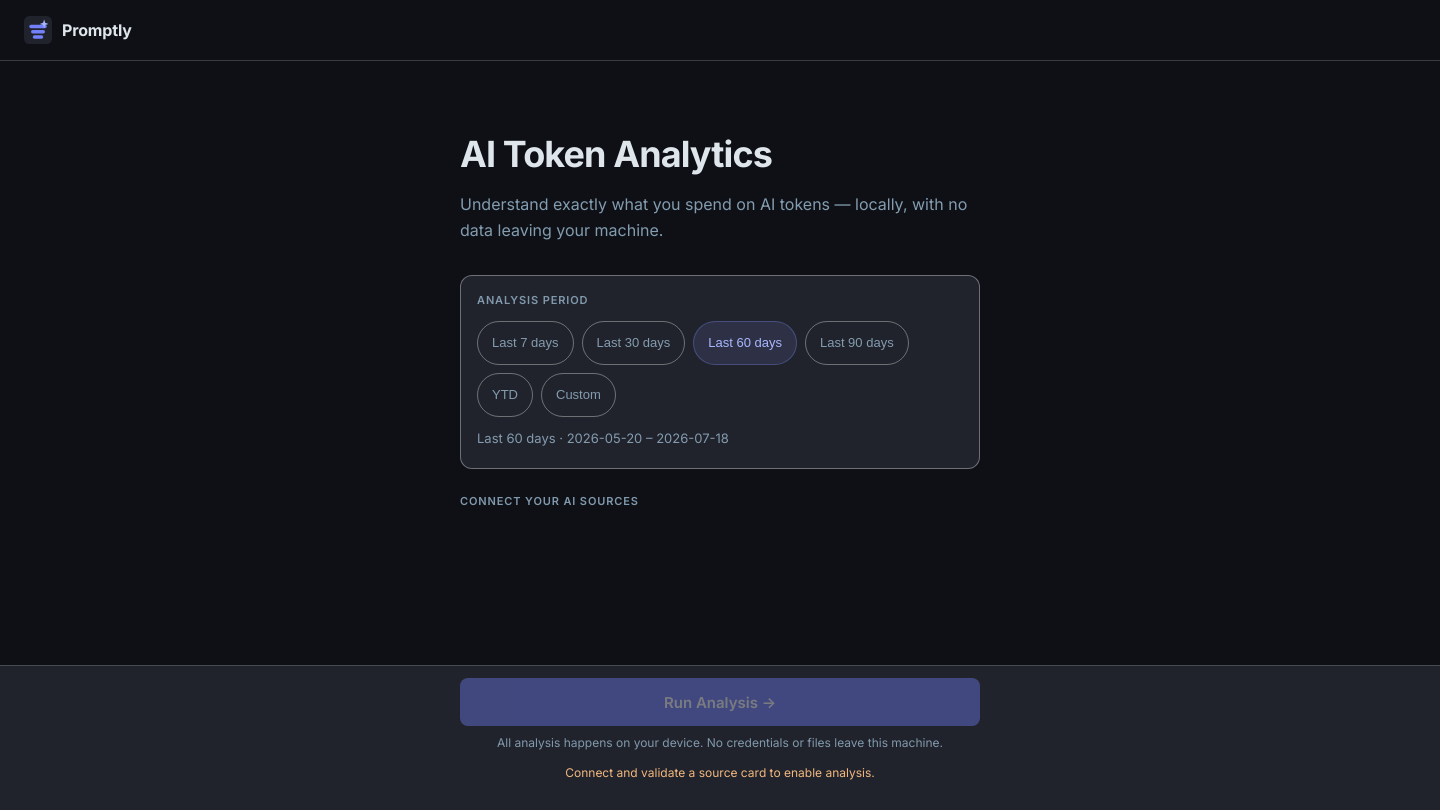
it: Landing — A2 MoM nudge & validation › shows MoM nudge for Last 7 days
The width and height of the screenshot is (1440, 810).
Click the button with test id "period-preset-last_7" at point(525, 343), box x1=477 y1=321 x2=574 y2=365
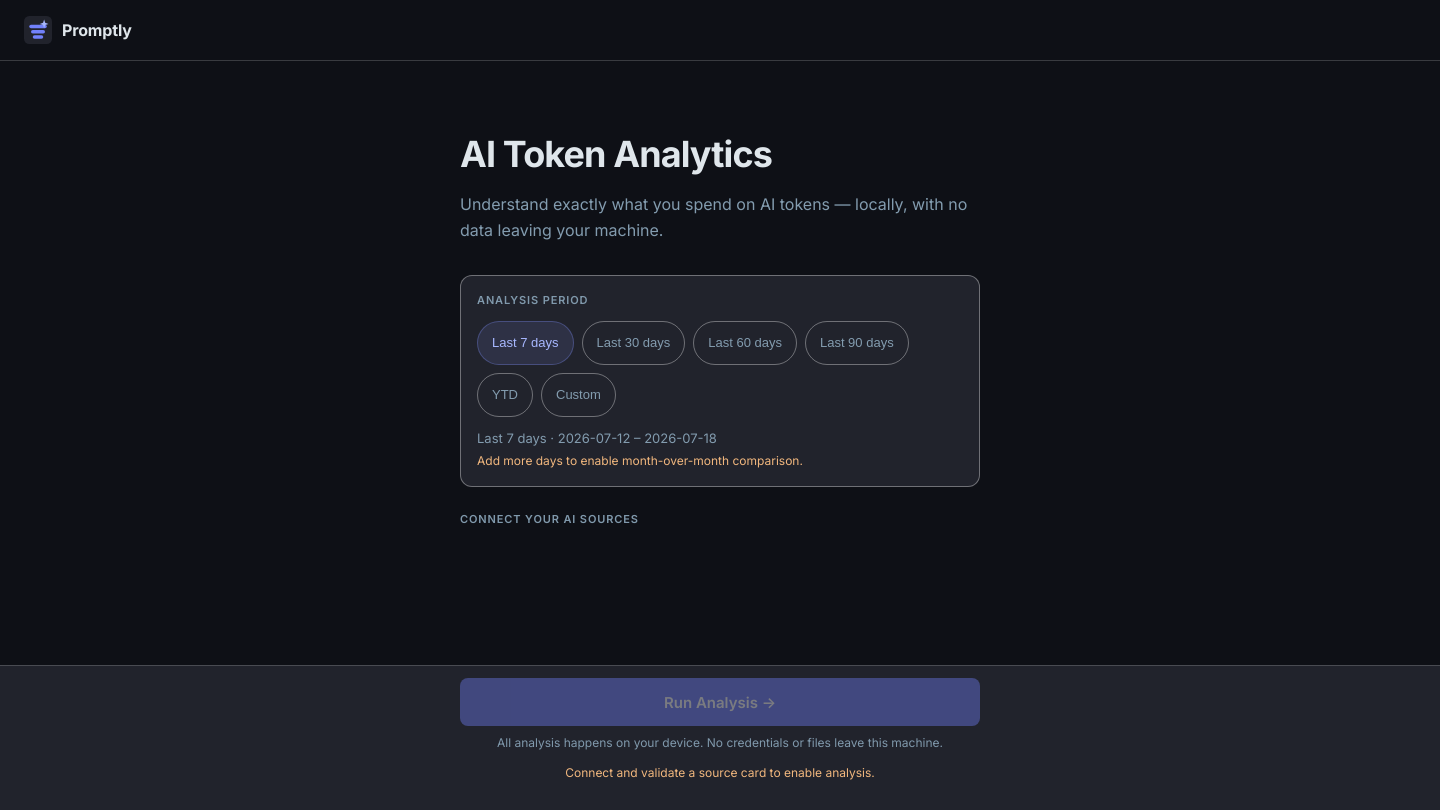
Expected: the text "Add more days to enable month-over-month comparison." is shown, x1=477 y1=454 x2=803 y2=468
